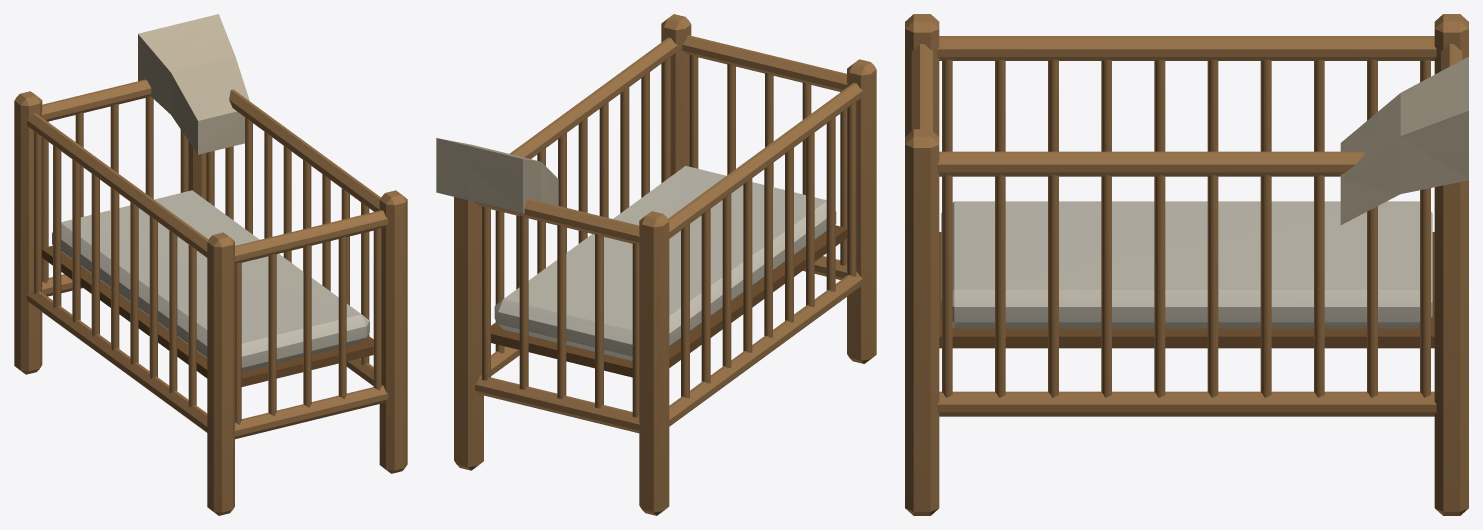
The model's file is crib.glb.
3 views of the same model, side by side, from view 1: azimuth 30°, elevation 25°; view 2: azimuth 150°, elevation 25°; view 3: azimuth 270°, elevation 25° (orthographic). The views are drawn at different scales.
Visible parts, largest first — view 1: crib; view 2: crib; view 3: crib.
Boxes of the visible parts, x1,y1,x2,y2 form: crib: (14, 14, 407, 515); crib: (436, 14, 876, 515); crib: (905, 14, 1468, 515).
Size of the model in its own units: 0.77 by 1.08 by 1.32.
